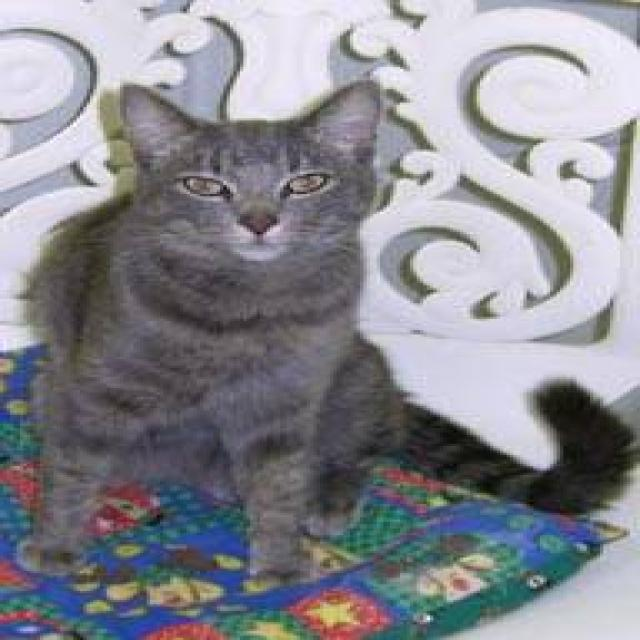cat: (16, 78, 636, 589)
